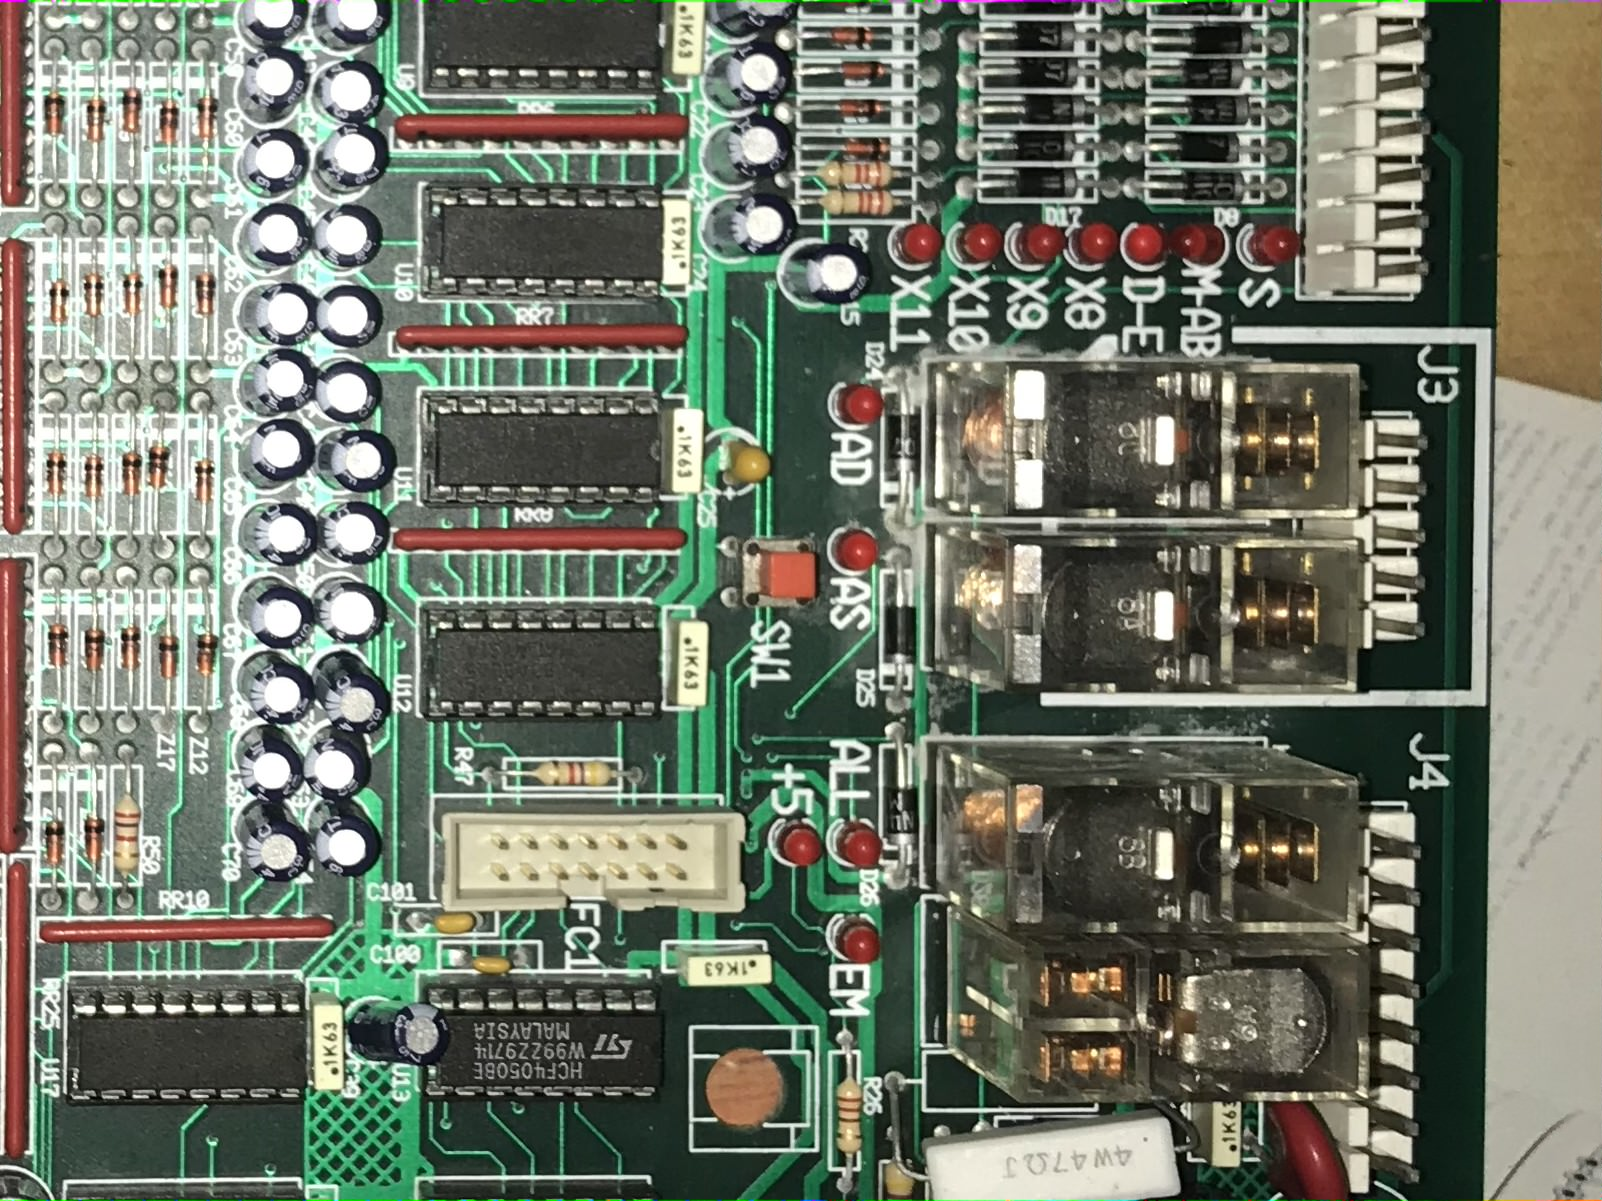Capacitor: (343, 994, 455, 1076), (308, 647, 394, 735), (703, 112, 793, 187), (235, 648, 318, 729), (238, 570, 318, 655), (232, 797, 310, 883), (701, 40, 792, 114), (307, 122, 391, 201), (238, 416, 319, 495), (231, 201, 312, 279), (307, 796, 380, 881), (701, 196, 798, 259), (313, 424, 400, 493), (310, 571, 389, 648), (235, 500, 320, 569), (313, 497, 394, 569), (307, 202, 389, 272), (238, 344, 315, 418), (304, 722, 373, 801), (235, 723, 303, 804), (788, 243, 873, 308), (236, 124, 307, 199), (309, 356, 383, 426), (237, 283, 320, 344), (312, 62, 390, 127), (238, 49, 309, 121), (305, 1, 400, 52), (313, 283, 385, 348), (230, 1, 310, 52), (701, 1, 797, 38)
Diode: (997, 58, 1084, 93), (882, 772, 920, 853), (998, 21, 1086, 56), (1171, 59, 1254, 95), (883, 402, 918, 486), (1168, 170, 1254, 204), (1173, 96, 1255, 131), (882, 597, 918, 672), (1005, 97, 1092, 127), (1179, 26, 1259, 59), (1166, 132, 1248, 164), (991, 172, 1084, 199), (1004, 130, 1079, 161), (811, 61, 897, 87), (39, 85, 72, 151), (809, 24, 894, 48), (155, 83, 183, 156), (190, 90, 223, 151), (192, 618, 219, 689), (78, 445, 108, 508), (43, 617, 73, 679), (817, 98, 893, 122), (119, 81, 145, 148), (119, 266, 148, 327), (79, 806, 108, 867), (193, 264, 219, 328), (79, 93, 108, 151), (79, 266, 108, 324), (190, 453, 221, 508), (148, 442, 175, 500), (79, 617, 106, 677), (155, 254, 179, 320), (831, 136, 893, 161), (44, 272, 72, 328), (116, 619, 143, 677), (45, 444, 69, 507), (121, 444, 145, 505), (154, 630, 179, 685), (43, 810, 66, 870)
LED: (830, 911, 883, 966), (946, 222, 1007, 267), (830, 382, 886, 430), (1007, 222, 1068, 265), (1242, 223, 1302, 267), (1168, 225, 1229, 266), (888, 223, 944, 267), (776, 819, 824, 869), (829, 526, 879, 573), (1121, 220, 1168, 267), (838, 823, 884, 868), (1072, 223, 1120, 265)
Resistor: (513, 758, 623, 788), (108, 786, 143, 882), (833, 1066, 864, 1166), (814, 161, 901, 190), (814, 190, 901, 218)
